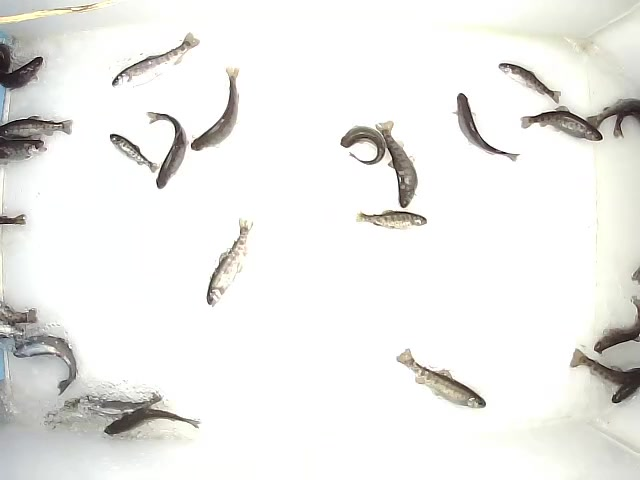fish: (393, 346, 489, 410), (110, 29, 201, 91), (450, 92, 524, 163), (205, 215, 257, 308), (190, 66, 241, 152), (12, 333, 79, 398), (374, 119, 419, 209), (145, 110, 190, 190), (520, 104, 605, 143), (102, 407, 202, 437), (568, 346, 640, 387), (498, 61, 562, 105), (109, 133, 162, 174), (586, 91, 640, 131), (83, 389, 165, 414), (339, 123, 385, 166), (1, 115, 74, 142), (1, 54, 45, 92), (355, 209, 428, 231), (595, 324, 640, 355), (1, 140, 50, 162), (610, 375, 640, 405)
